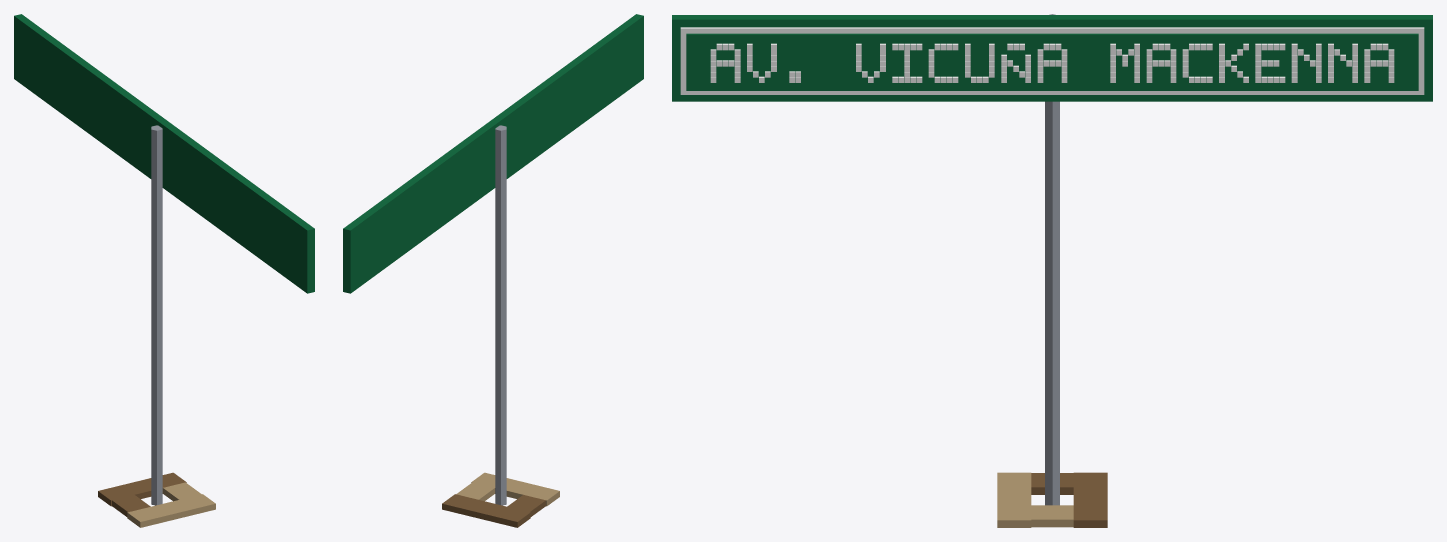
The model's file is letrero_calle_vicuna.obj.
3 views of the same model, side by side, from view 1: azimuth 30°, elevation 25°; view 2: azimuth 150°, elevation 25°; view 3: azimuth 270°, elevation 25° (orthographic). The views are drawn at different scales.
Visible parts, largest first — view 1: letrero_calle_vicuna; view 2: letrero_calle_vicuna; view 3: letrero_calle_vicuna.
Boxes of the visible parts, bbox=[...] form: letrero_calle_vicuna: bbox=[14, 14, 314, 527]; letrero_calle_vicuna: bbox=[343, 14, 643, 527]; letrero_calle_vicuna: bbox=[672, 14, 1432, 527].
Size of the model in its own units: 0.8 by 3.84 by 5.39.
